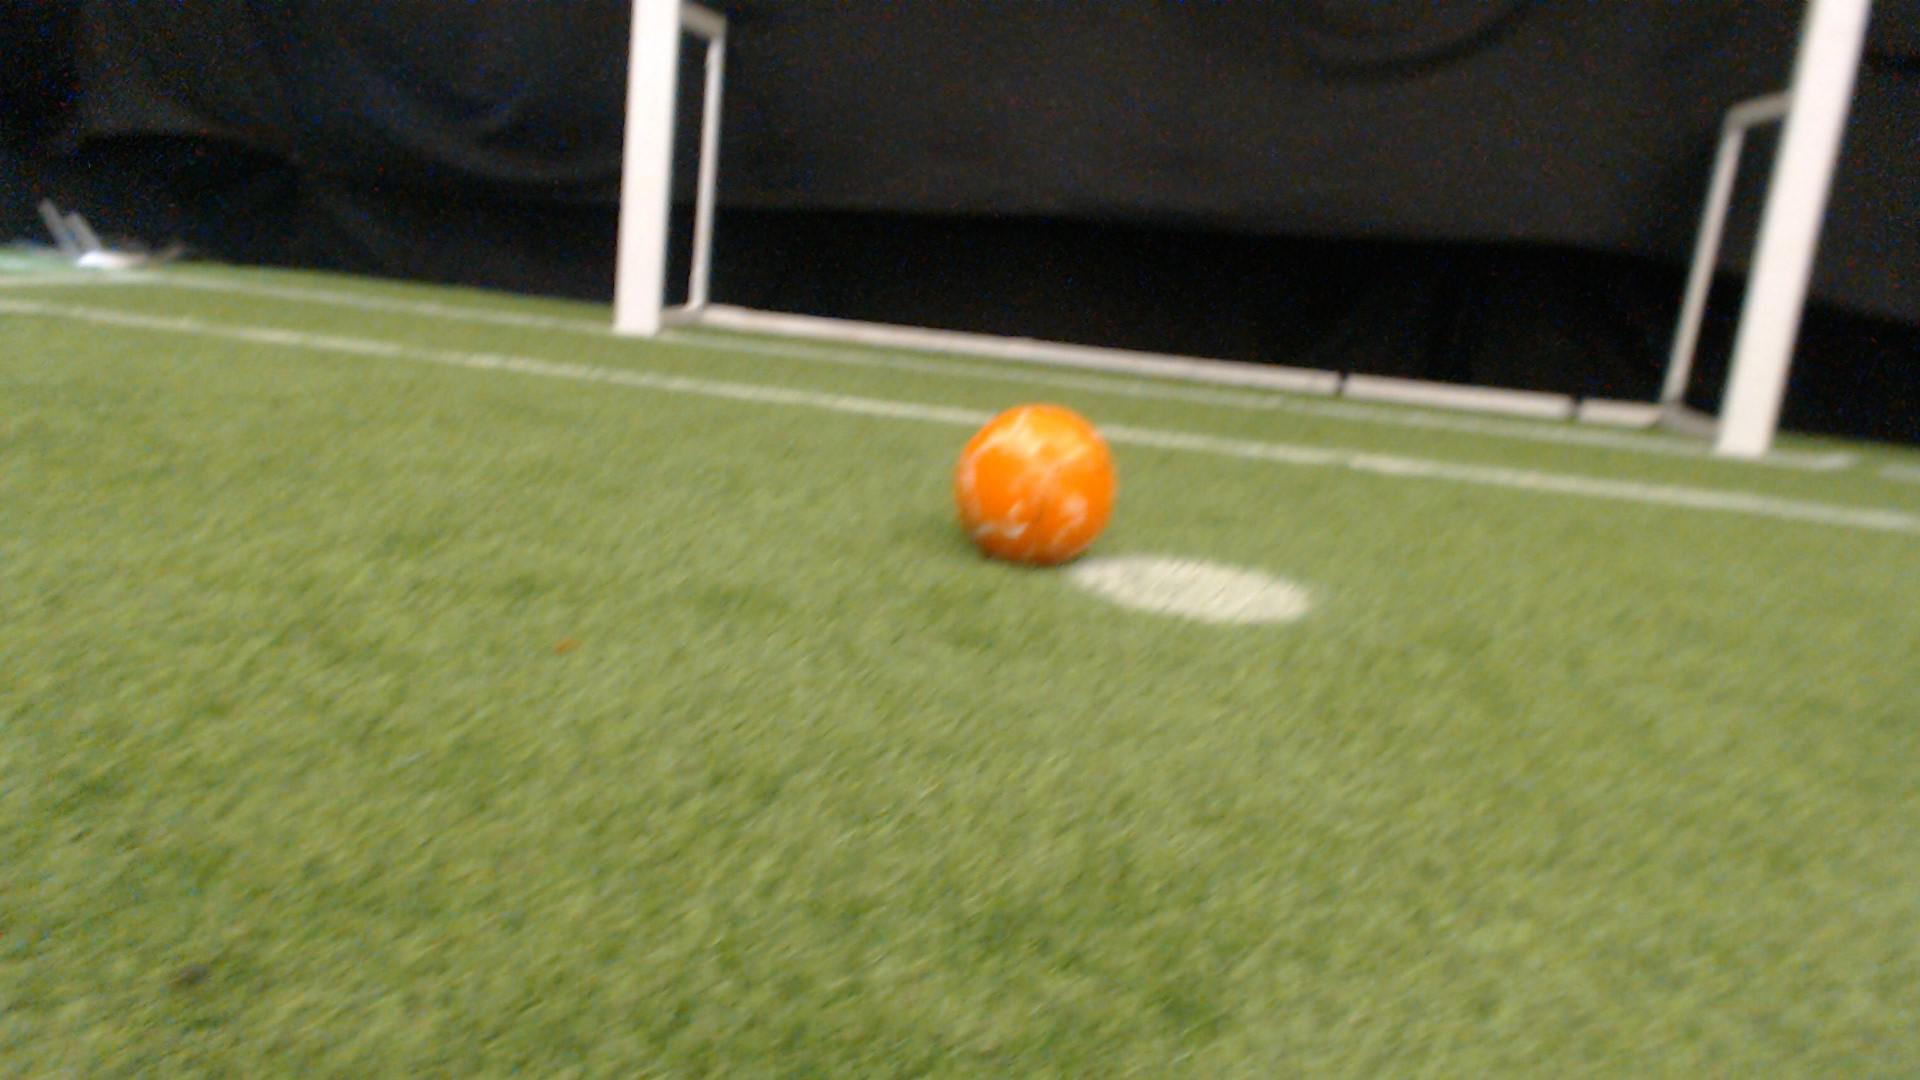bola: (928, 382, 1143, 588)
